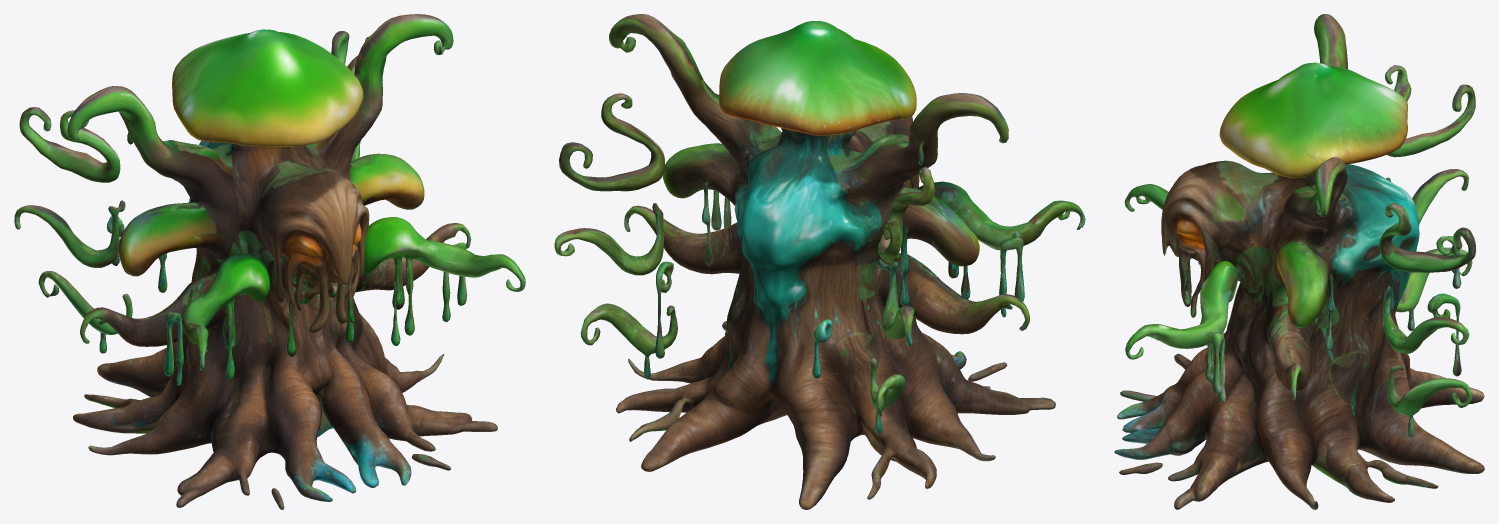
File: toxic-mushroom-tree.glb
The picture shows the model from 3 angles, left to right: view 1: azimuth 30°, elevation 25°; view 2: azimuth 150°, elevation 25°; view 3: azimuth 270°, elevation 25°; orthographic projection. The views are drawn at different scales.
Size of the model in its own units: 2 by 1.9 by 1.71.
Materials: 1 (1 with a texture image).
